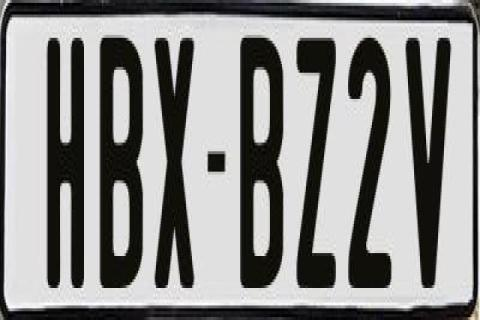0: (344, 32, 392, 291)
B: (98, 29, 146, 291), (240, 38, 288, 294)
H: (43, 32, 88, 282)
V: (406, 35, 456, 288)
X: (152, 38, 199, 300)
Z: (296, 38, 338, 302)
